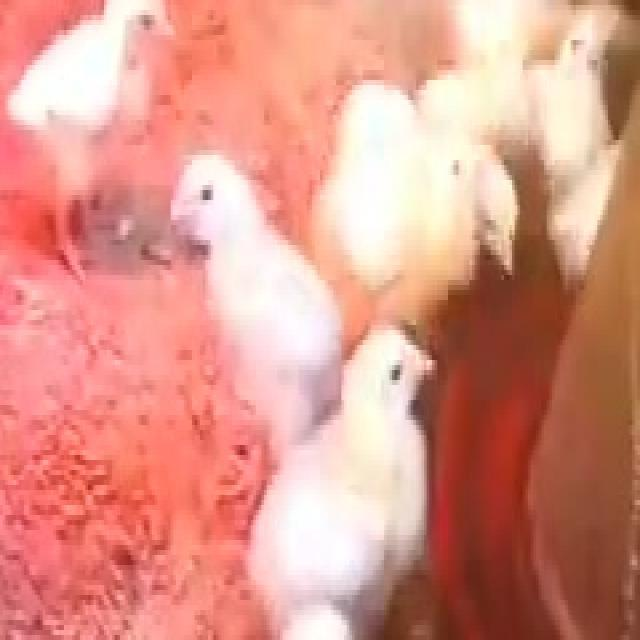poussin: (246, 324, 446, 618), (0, 0, 188, 287), (169, 148, 345, 446), (304, 84, 468, 298), (462, 4, 624, 140), (462, 129, 532, 309)
